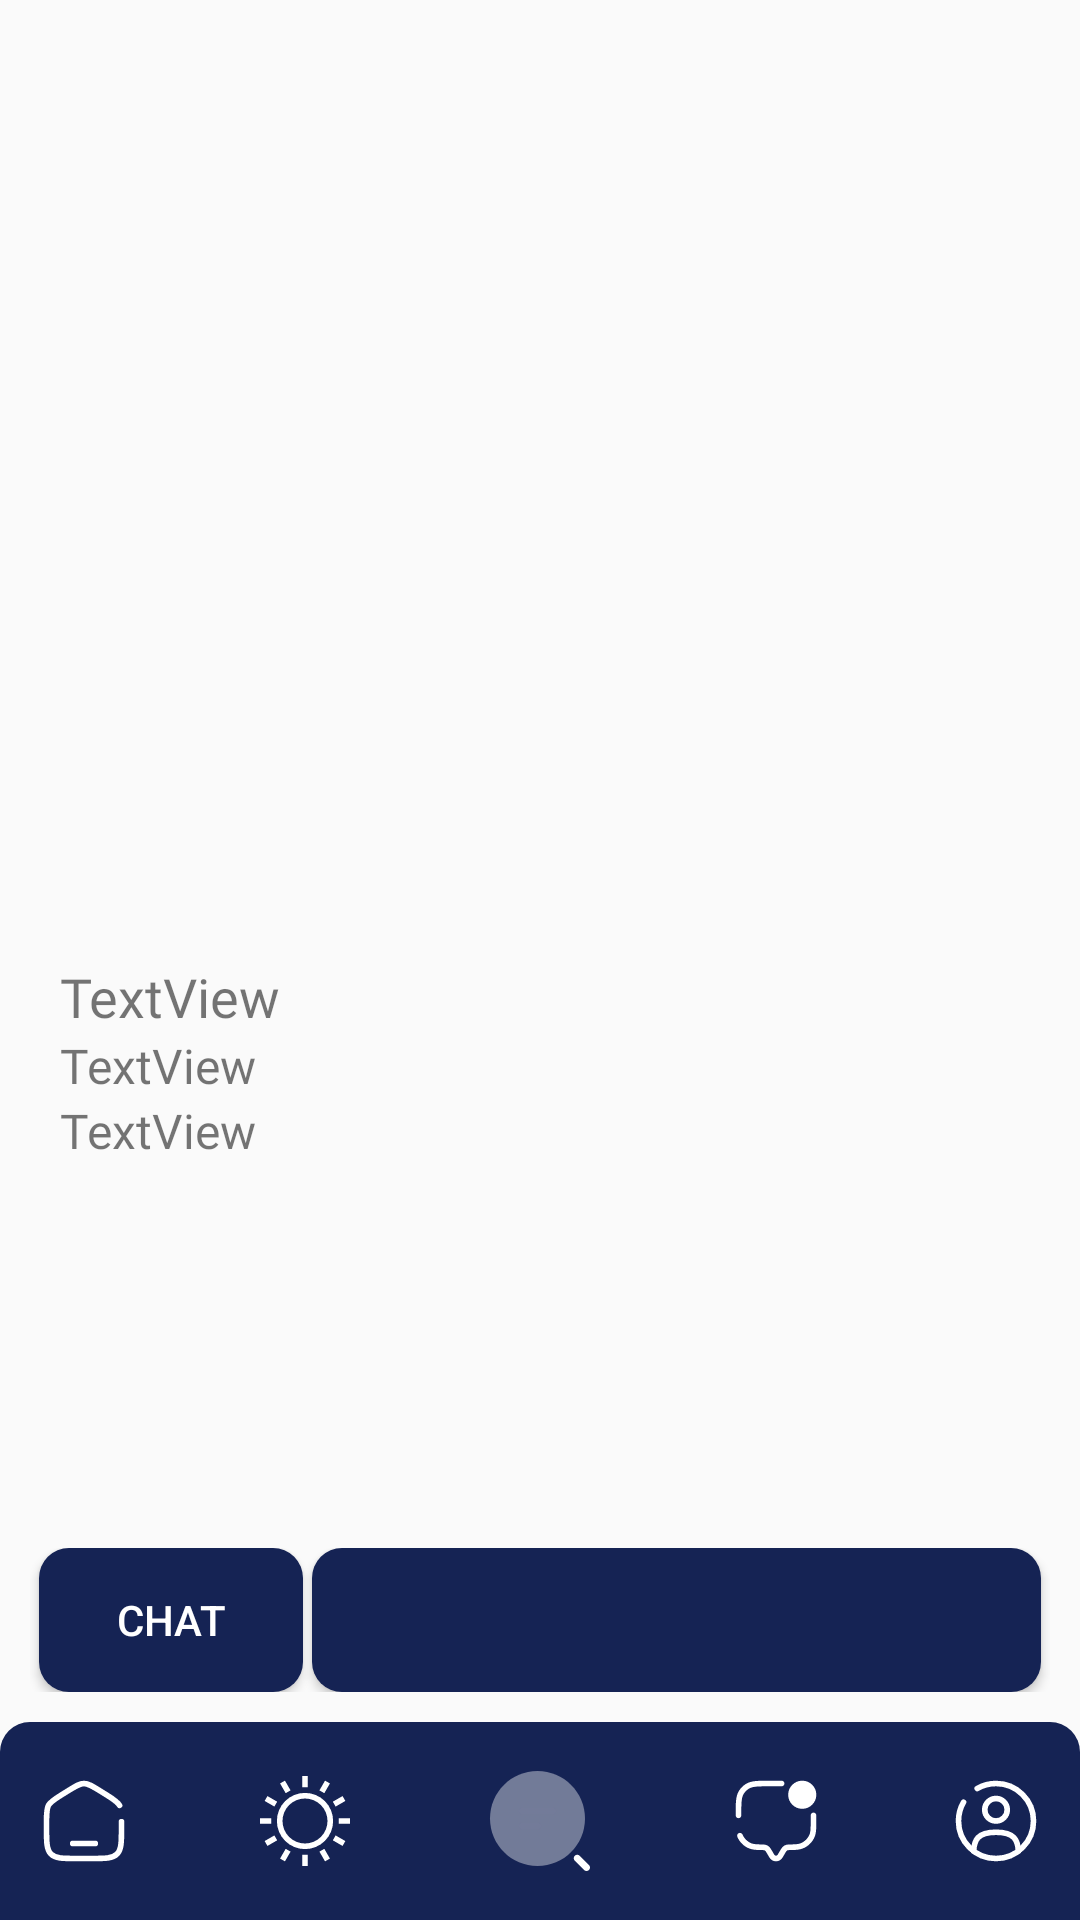

Icon click points for this 1080 × 1920 phone screenshot, format (x,y):
chat: (776,1821)
home: (84,1821)
search ai: (540,1821)
user: (996,1821)
weather: (305,1821)
